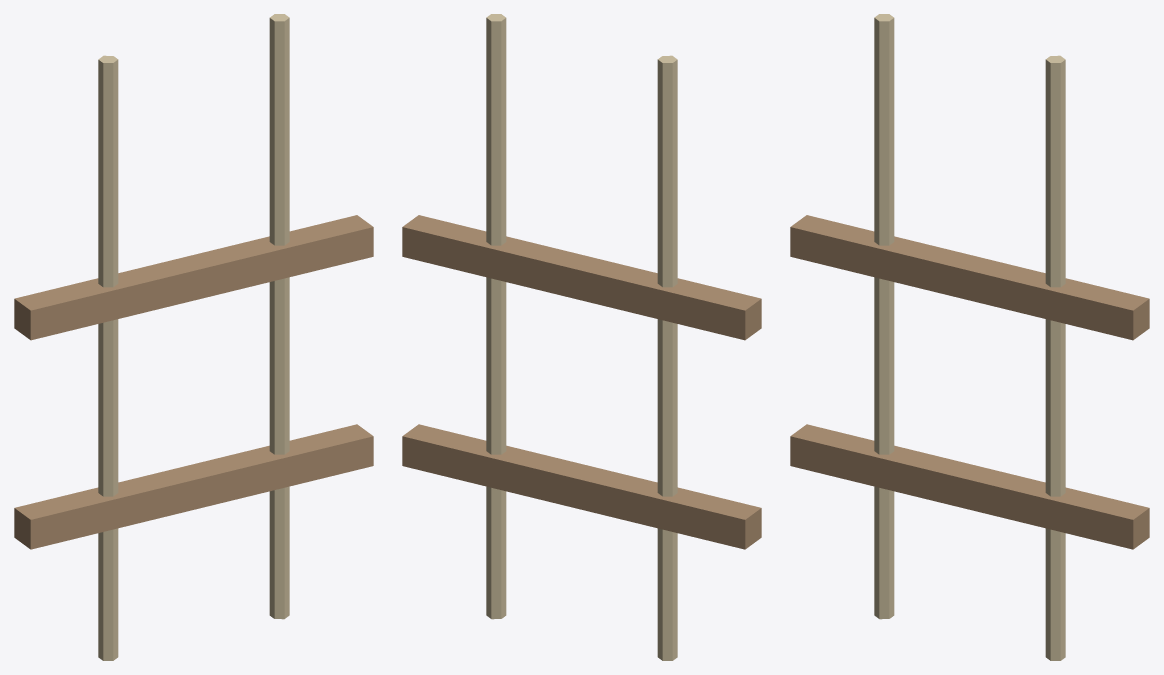
File: rope_ladder.glb
The picture shows the model from 3 angles, left to right: view 1: azimuth 30°, elevation 25°; view 2: azimuth 150°, elevation 25°; view 3: azimuth 330°, elevation 25°; orthographic projection.
Visible parts, largest first — view 1: rung1, rung2, rope1, rope2; view 2: rung1, rung2, rope1, rope2; view 3: rung1, rung2, rope2, rope1.
Boxes of the visible parts, left/top/right/bottom form: rung1: left=14, top=424, right=373, bottom=549; rung2: left=14, top=215, right=373, bottom=340; rope1: left=98, top=55, right=118, bottom=660; rope2: left=269, top=14, right=289, bottom=619; rung1: left=402, top=424, right=761, bottom=549; rung2: left=402, top=215, right=761, bottom=340; rope1: left=657, top=55, right=677, bottom=660; rope2: left=486, top=14, right=506, bottom=619; rung1: left=790, top=424, right=1149, bottom=549; rung2: left=790, top=215, right=1149, bottom=340; rope2: left=1045, top=55, right=1065, bottom=660; rope1: left=874, top=14, right=894, bottom=619.
Size of the model in its own units: 1.2 by 2 by 0.0996.
